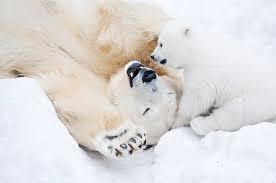bear: (0, 0, 191, 160), (145, 17, 276, 133)
